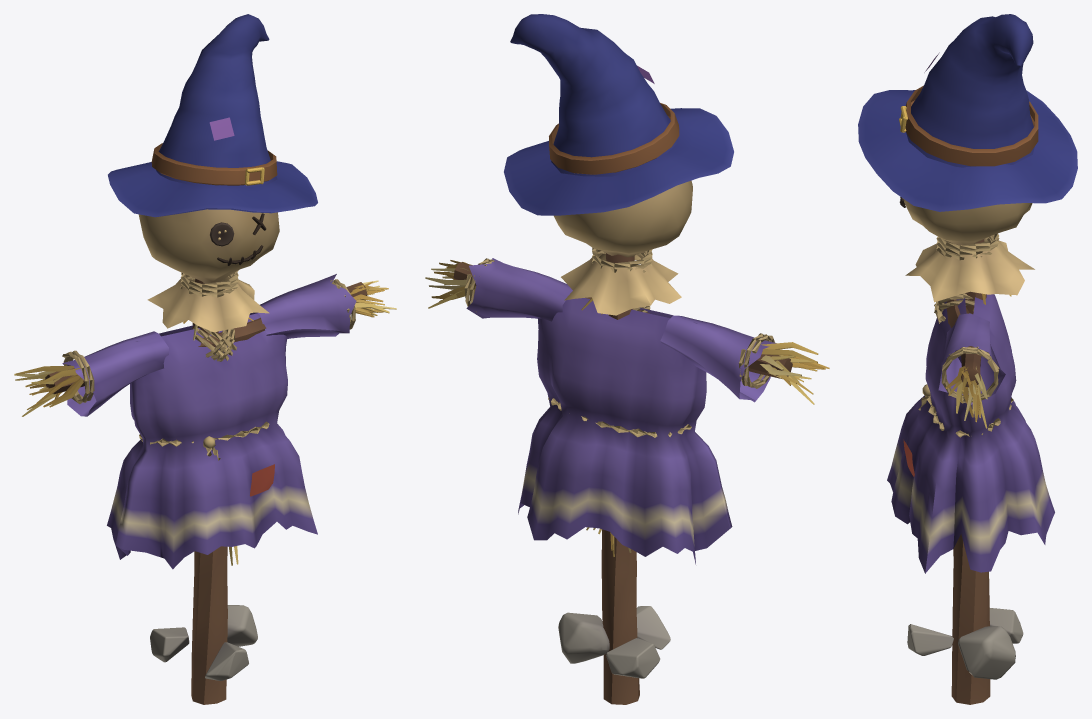
The model's file is pr_dummy.glb.
3 views of the same model, side by side, from view 1: azimuth 30°, elevation 25°; view 2: azimuth 150°, elevation 25°; view 3: azimuth 270°, elevation 25° (orthographic). The views are drawn at different scales.
Visible parts, largest first — view 1: PR_dummy__pivot, PR_dummy__base; view 2: PR_dummy__pivot, PR_dummy__base; view 3: PR_dummy__pivot, PR_dummy__base.
Boxes of the visible parts, x1,y1,x2,y2 form: PR_dummy__pivot: (14,14,396,704); PR_dummy__base: (150,605,257,680); PR_dummy__pivot: (425,14,829,704); PR_dummy__base: (558,606,670,678); PR_dummy__pivot: (858,14,1077,704); PR_dummy__base: (907,608,1023,679).
Size of the model in its own units: 2.04 by 3.41 by 0.9539.
